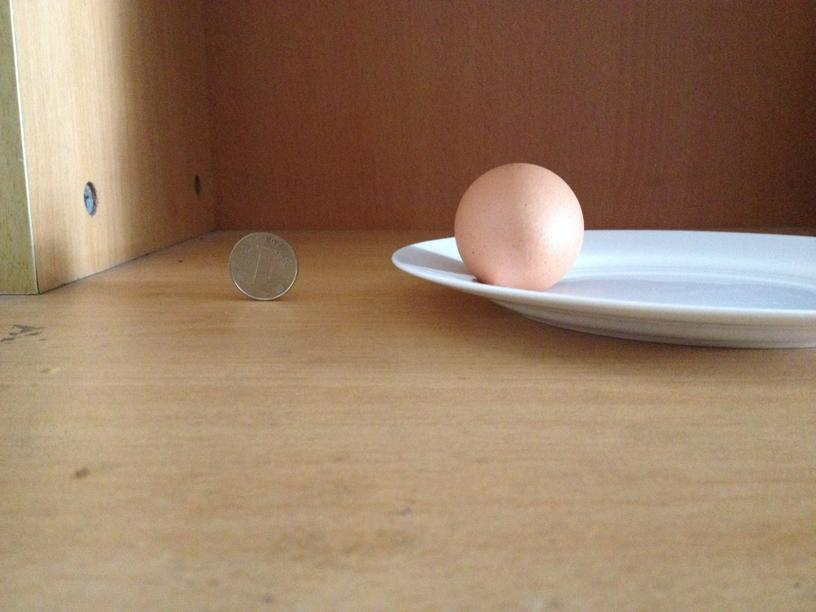coin: (227, 232, 297, 299)
egg: (453, 164, 584, 289)
